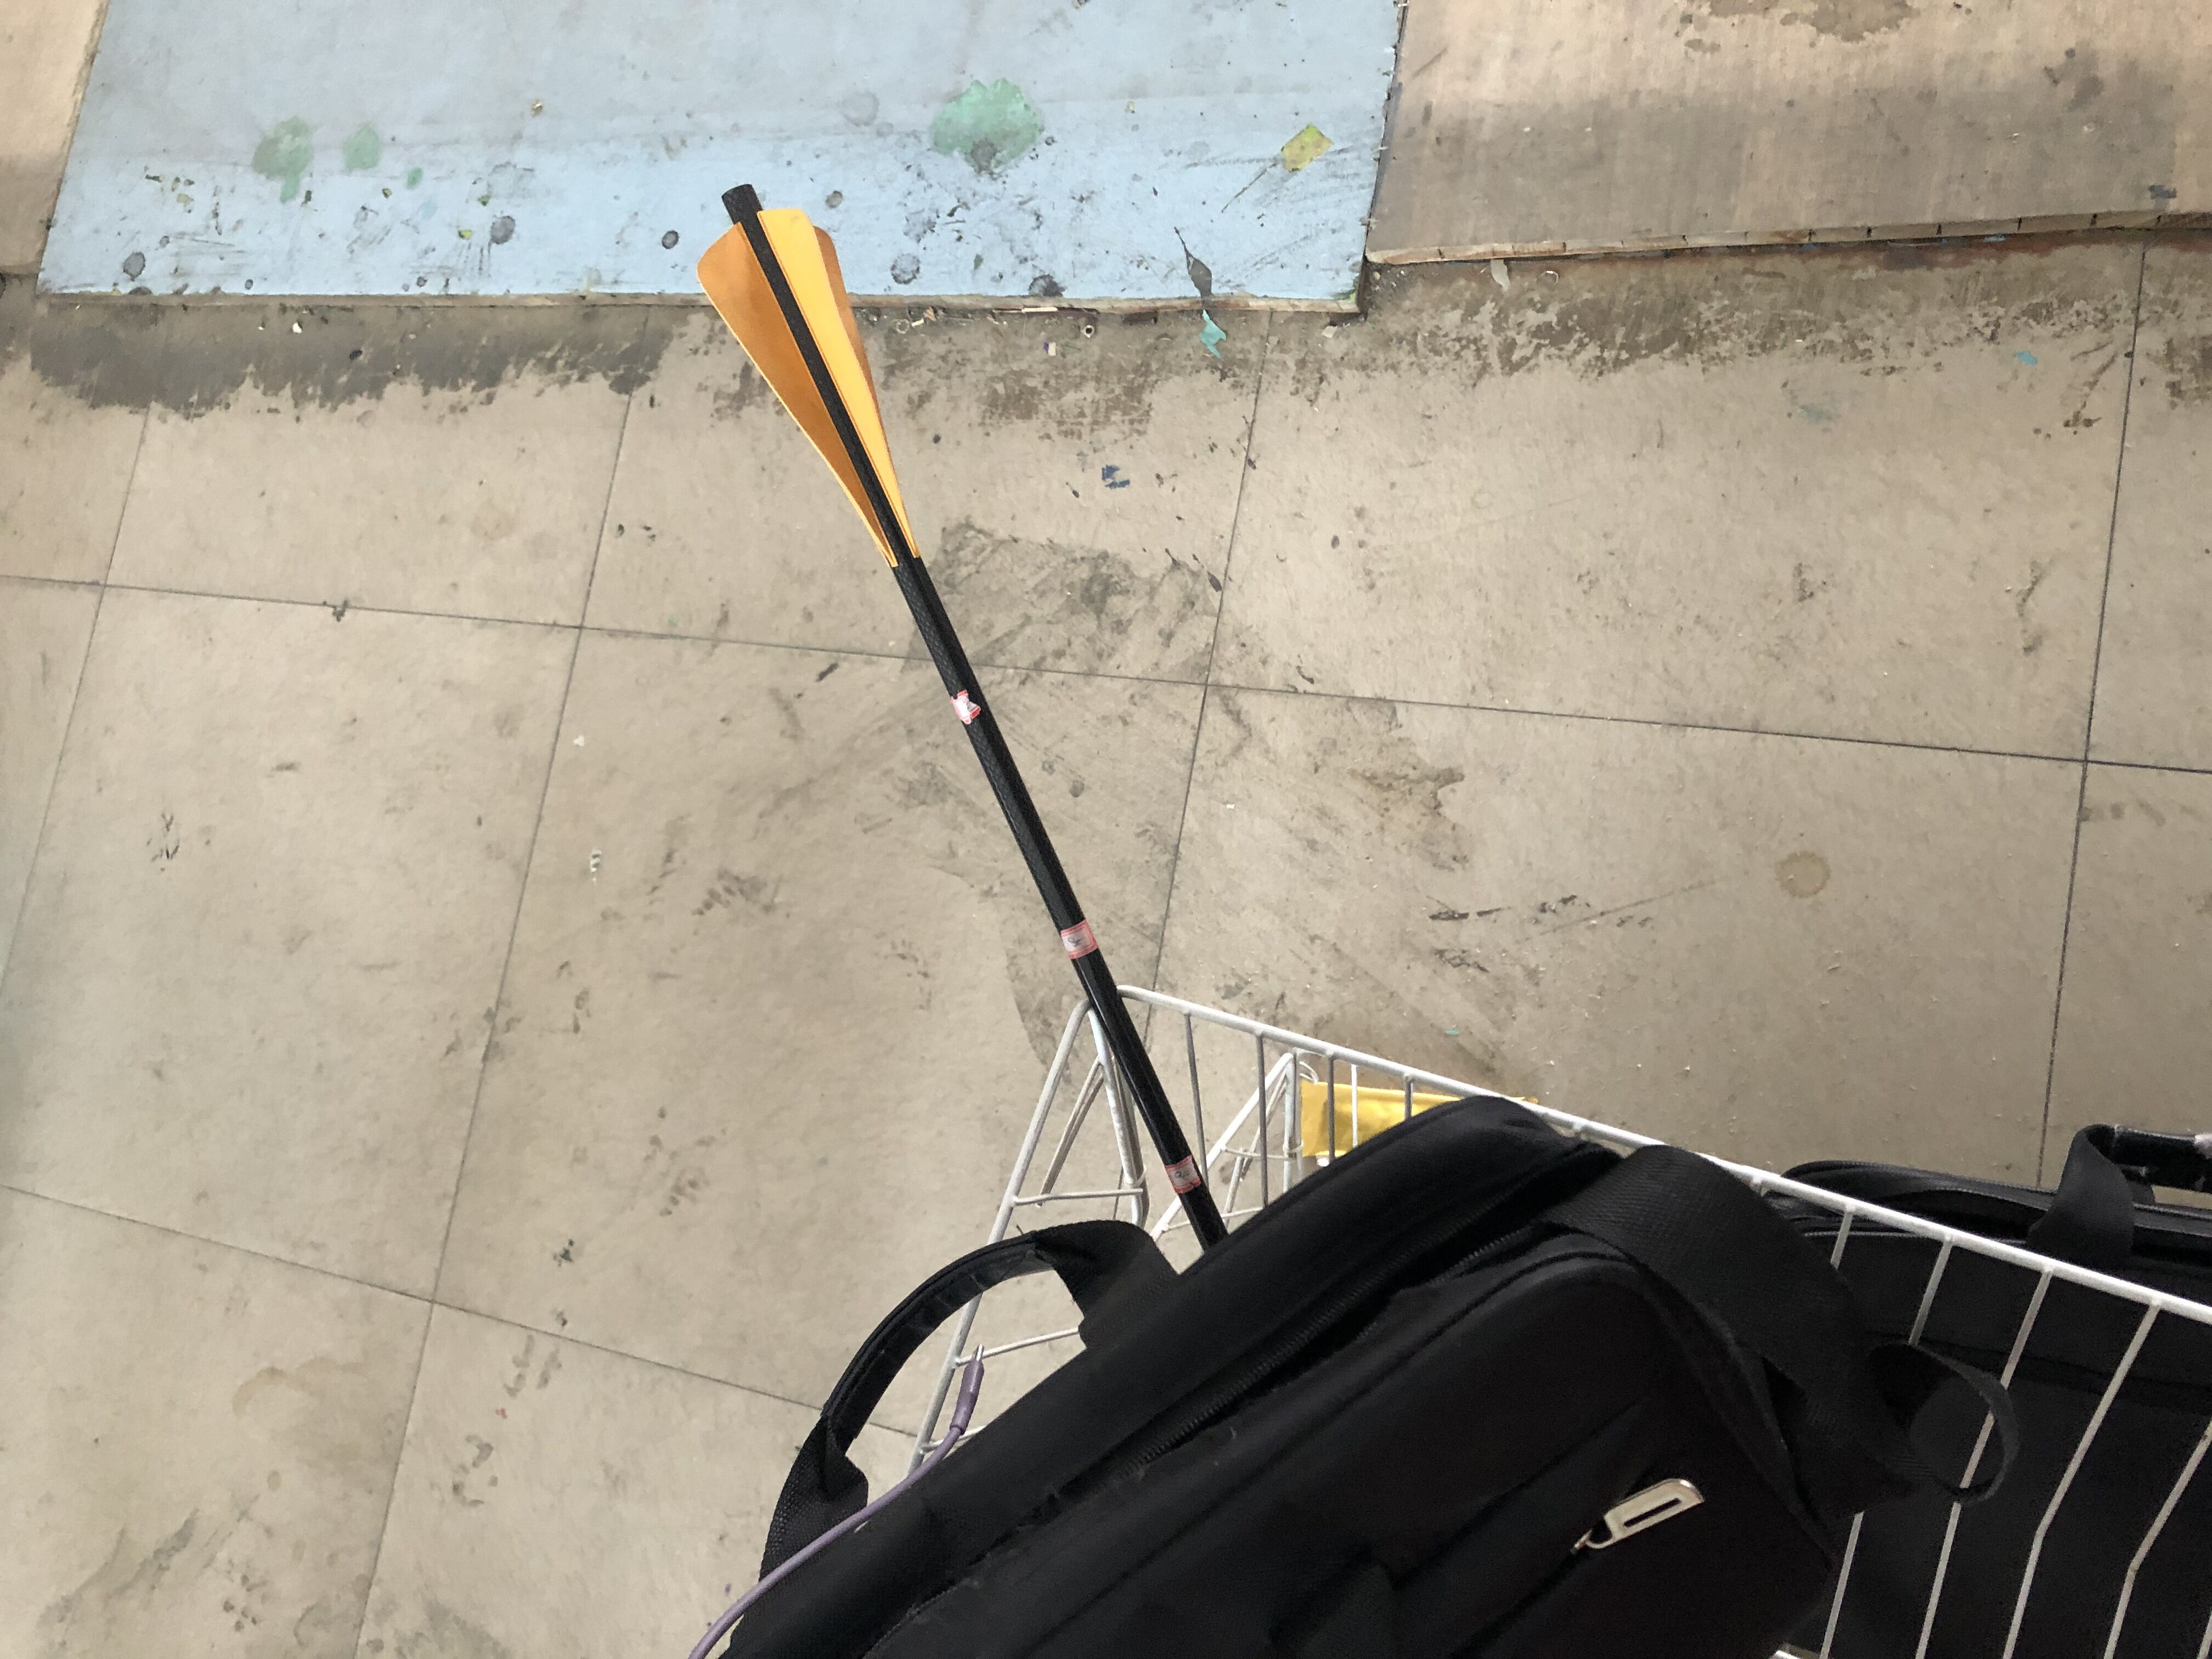arrow: (693, 185, 1231, 1262)
